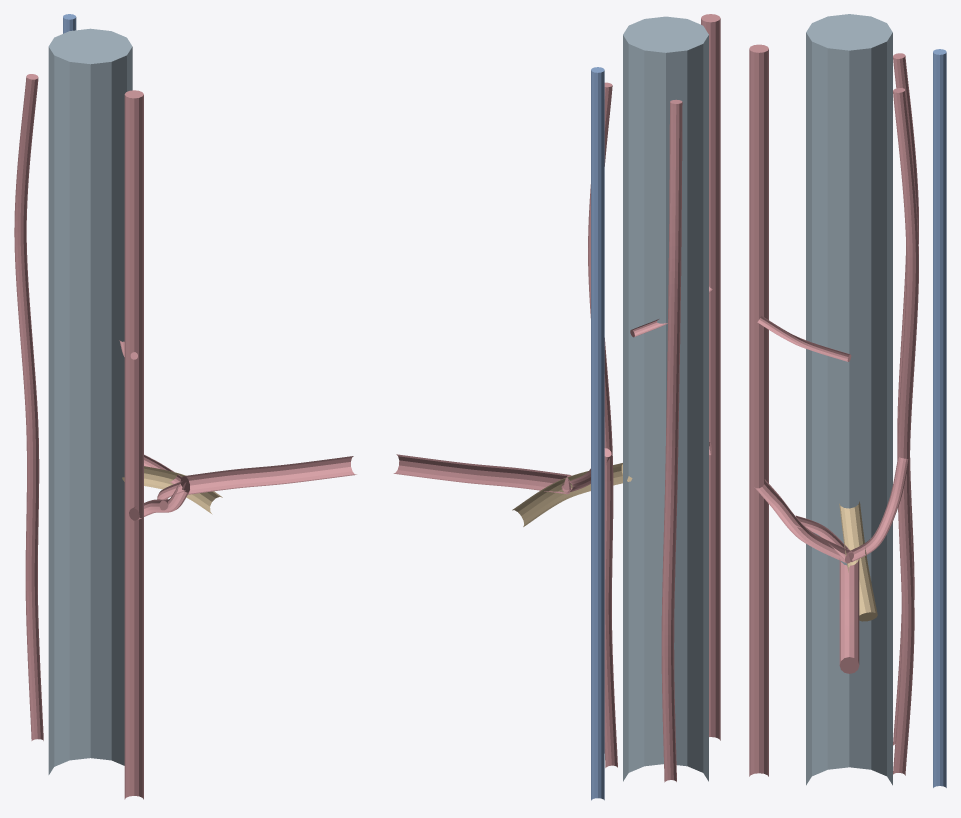
Rendered from spinal.glb.
The picture shows the model from 3 angles, left to right: view 1: azimuth 30°, elevation 25°; view 2: azimuth 150°, elevation 25°; view 3: azimuth 270°, elevation 25°; orthographic projection. The views are drawn at different scales.
Parts seen in each view (by area): view 1: Medula espinhal — eixo central esquemático, Artéria espinal anterior — eixo longitudinal, Eixo posterior esquerdo — rede pial, Artéria segmentar — ramo posterior, Raiz nervosa segmentar — referência, Artéria radiculomedular anterior — exemplo; view 2: Medula espinhal — eixo central esquemático, Veia espinal longitudinal posterior — esquema, Eixo posterior esquerdo — rede pial, Artéria espinal anterior — eixo longitudinal, Eixo posterior direito — rede pial, Artéria segmentar — ramo posterior, Raiz nervosa segmentar — referência; view 3: Medula espinhal — eixo central esquemático, Artéria espinal anterior — eixo longitudinal, Veia espinal longitudinal posterior — esquema, Eixo posterior direito — rede pial, Artéria segmentar — ramo posterior, Eixo posterior esquerdo — rede pial, Raiz nervosa segmentar — referência, Artéria radiculomedular anterior — exemplo, Artéria radiculopial — exemplo, Artéria sulcocomissural — esquema, Ramo radicular.
Part boxes in pixels (bbox=[...]): Medula espinhal — eixo central esquemático: bbox=[48, 28, 132, 774]; Artéria espinal anterior — eixo longitudinal: bbox=[124, 90, 143, 799]; Eixo posterior esquerdo — rede pial: bbox=[14, 74, 43, 740]; Artéria segmentar — ramo posterior: bbox=[180, 456, 356, 494]; Raiz nervosa segmentar — referência: bbox=[122, 466, 222, 514]; Artéria radiculomedular anterior — exemplo: bbox=[129, 484, 189, 520]; Medula espinhal — eixo central esquemático: bbox=[623, 16, 708, 781]; Veia espinal longitudinal posterior — esquema: bbox=[591, 67, 604, 800]; Eixo posterior esquerdo — rede pial: bbox=[661, 99, 682, 782]; Artéria espinal anterior — eixo longitudinal: bbox=[701, 14, 720, 740]; Eixo posterior direito — rede pial: bbox=[588, 82, 617, 767]; Artéria segmentar — ramo posterior: bbox=[393, 454, 571, 494]; Raiz nervosa segmentar — referência: bbox=[512, 463, 632, 526]; Medula espinhal — eixo central esquemático: bbox=[806, 14, 892, 785]; Artéria espinal anterior — eixo longitudinal: bbox=[749, 44, 768, 776]; Veia espinal longitudinal posterior — esquema: bbox=[933, 49, 946, 787]; Eixo posterior direito — rede pial: bbox=[893, 88, 918, 775]; Artéria segmentar — ramo posterior: bbox=[839, 558, 859, 673]; Eixo posterior esquerdo — rede pial: bbox=[893, 53, 918, 745]; Raiz nervosa segmentar — referência: bbox=[839, 501, 877, 621]; Artéria radiculomedular anterior — exemplo: bbox=[754, 479, 853, 563]; Artéria radiculopial — exemplo: bbox=[846, 457, 908, 561]; Artéria sulcocomissural — esquema: bbox=[757, 315, 851, 361]; Ramo radicular: bbox=[792, 515, 853, 559].
Size of the model in its own units: 4.1 by 9.2 by 2.19.
